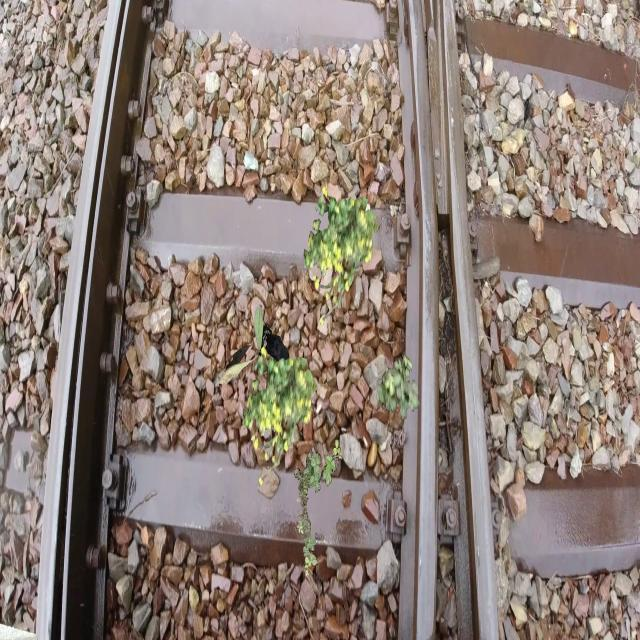Plant: (304, 186, 379, 326), (243, 346, 318, 486), (218, 304, 290, 404), (294, 440, 342, 578), (376, 354, 419, 421)
